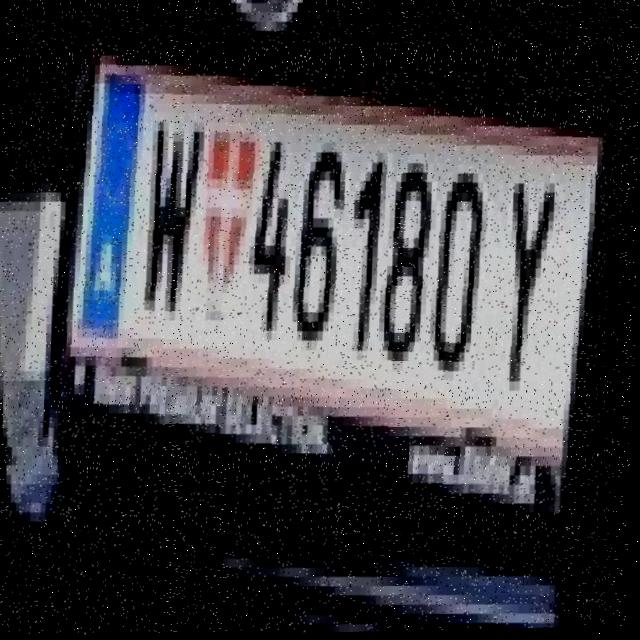LicensePlate: (61, 29, 613, 550)
